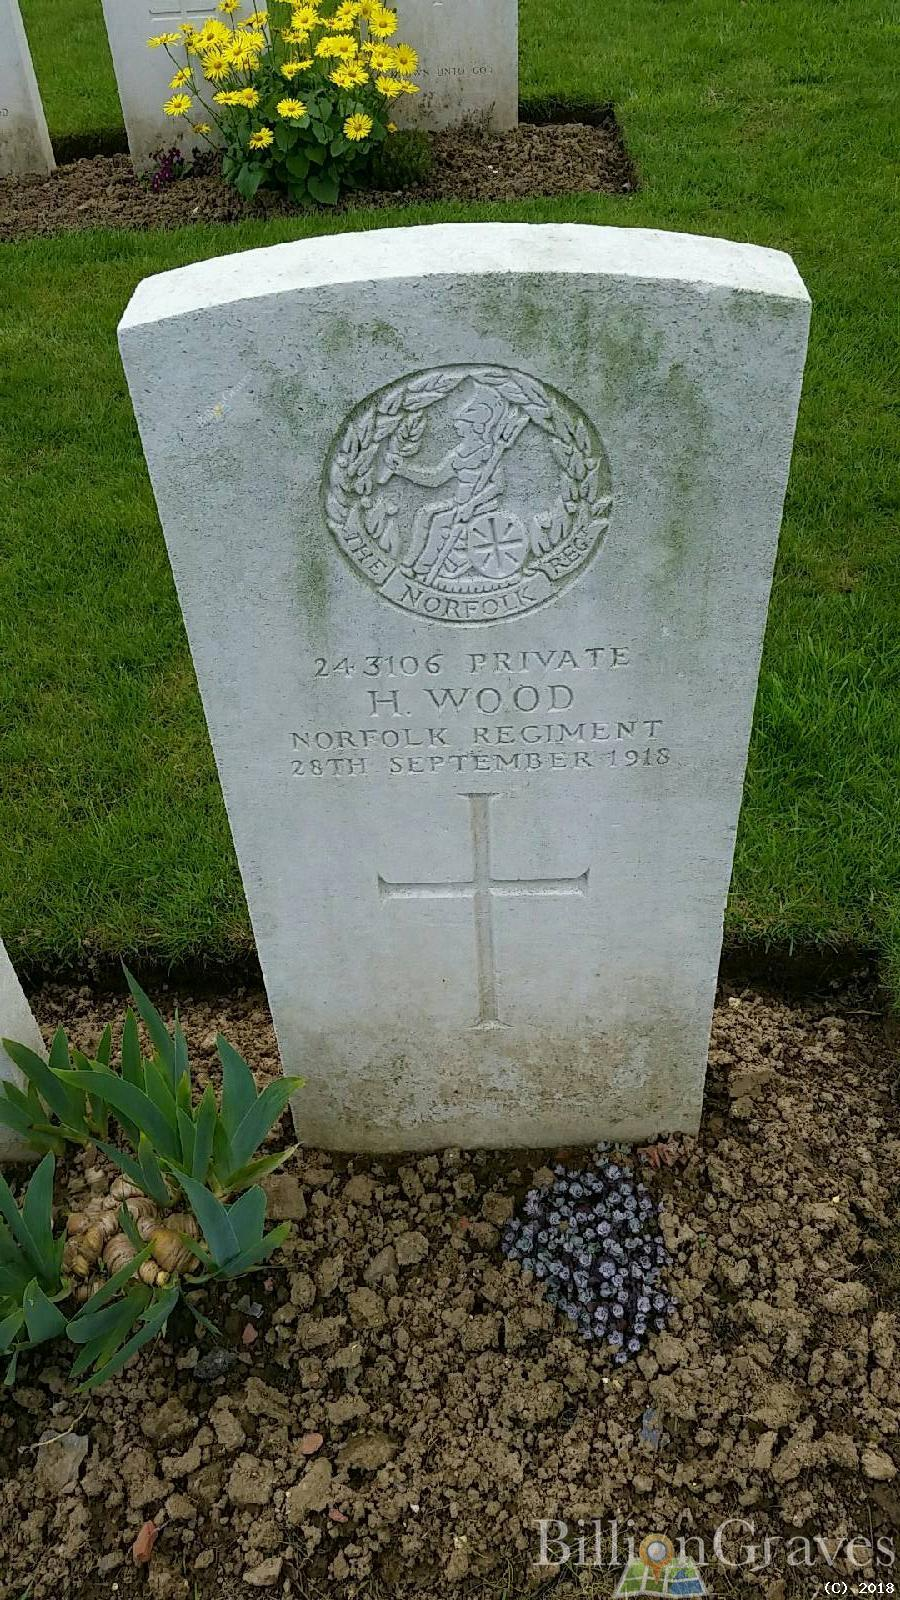military: (118, 222, 829, 1146)
